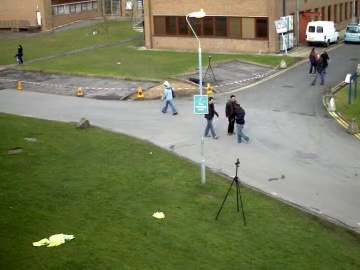person: (226, 95, 245, 135), (226, 95, 244, 136), (161, 81, 177, 114)
